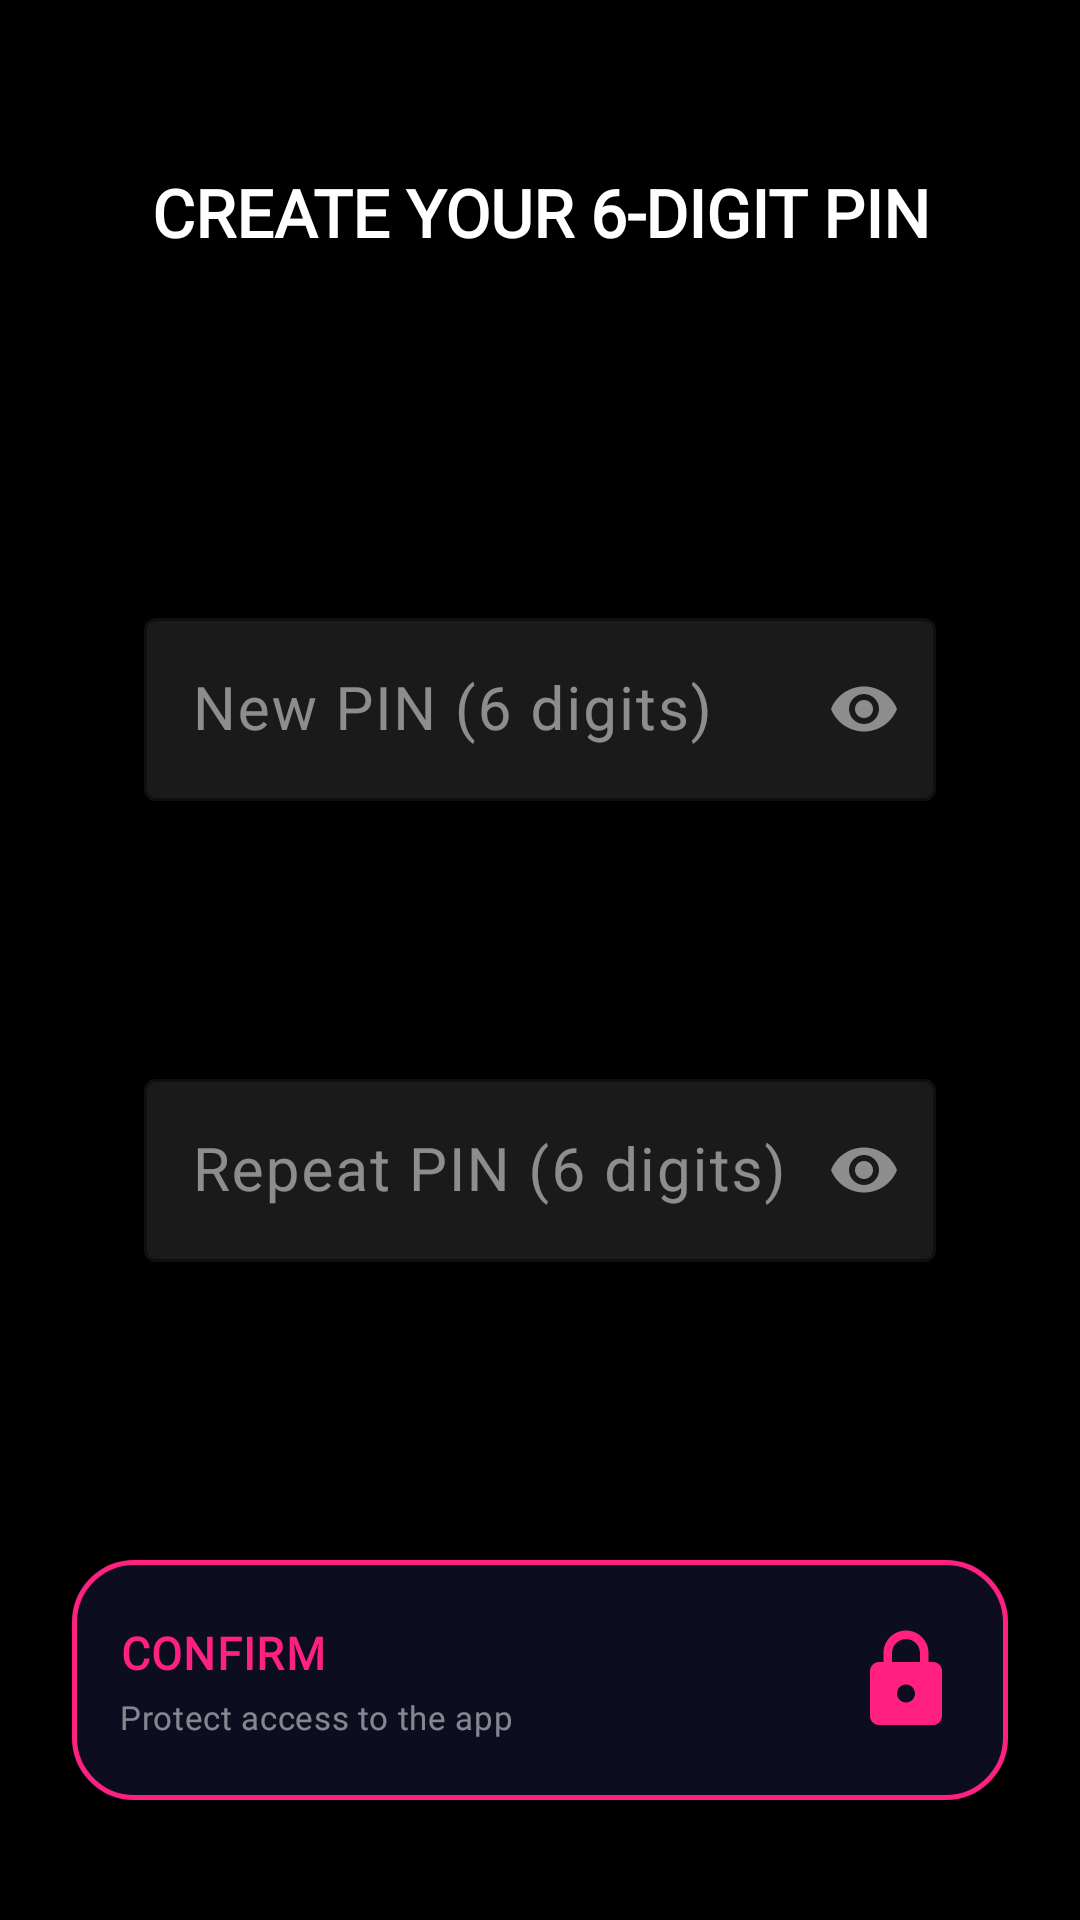

Where to tap for icons on this 1080w x 1920h app screen, as point (x, y):
lock: point (906, 1677)
